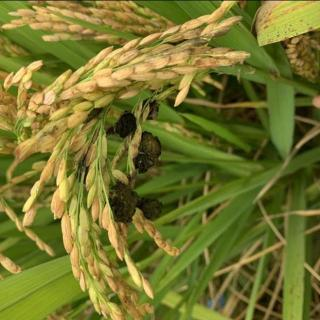Gosong-Palsu: (109, 180, 163, 224), (130, 130, 162, 174), (109, 109, 138, 141), (140, 95, 162, 122)
